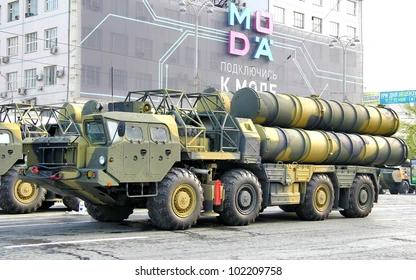MIL_SAM_TEL: (19, 82, 409, 229)
